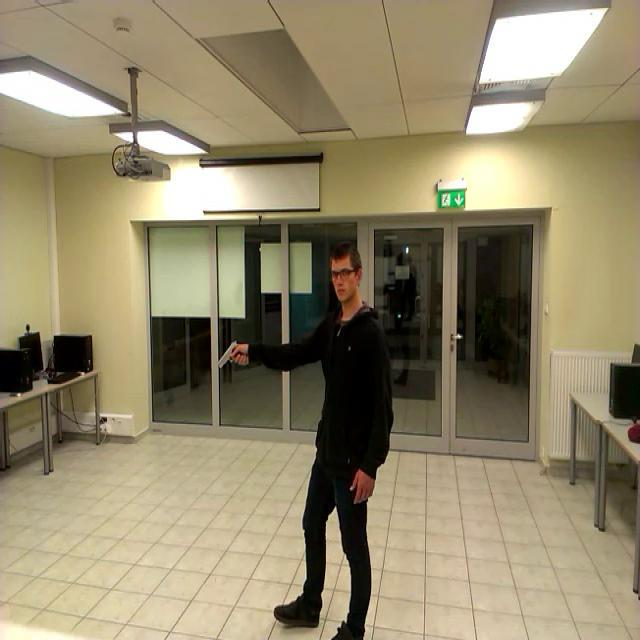Gun: (216, 340, 246, 368)
